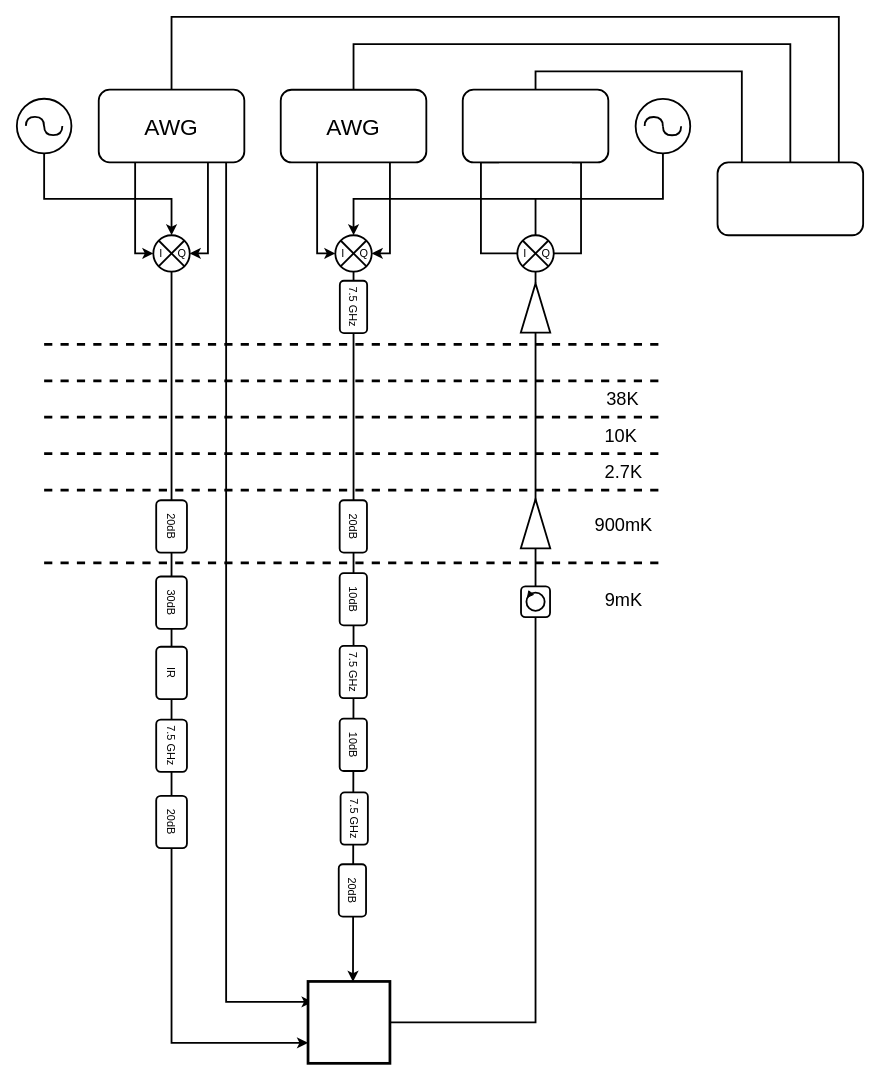
Image size: 879x1080. Some labels were removed from this diagram. Each missing label, with the box of its shape:
Digitizier: (461, 88, 609, 163)
HEMT: (520, 498, 551, 549)
Magnetic metal: (306, 980, 391, 1064)
PC: (716, 161, 864, 236)
